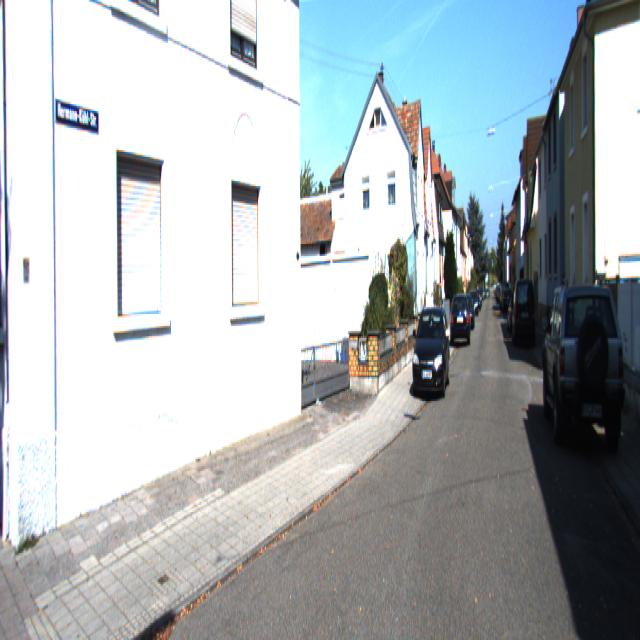Car: (540, 273, 628, 464), (411, 301, 449, 397), (512, 275, 537, 346), (451, 292, 469, 346)
